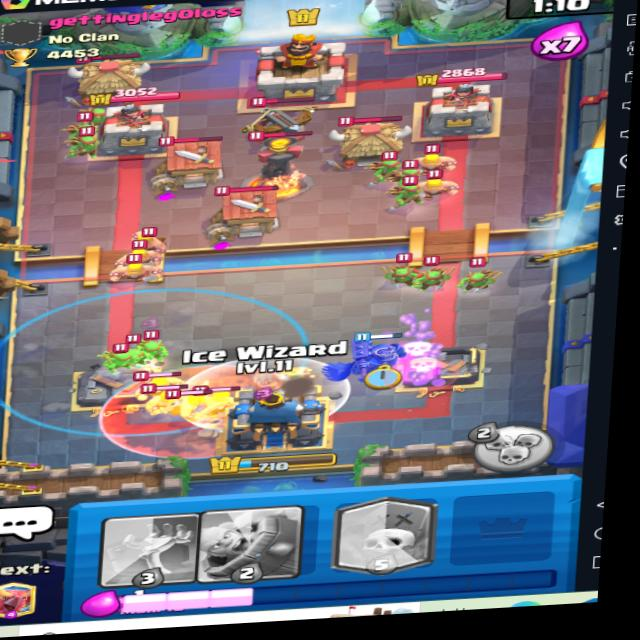barbarian: (144, 382, 191, 419), (112, 253, 160, 287), (404, 144, 455, 174), (125, 220, 175, 249), (411, 172, 457, 201), (199, 384, 239, 413), (120, 242, 165, 263)
barbarian-hut: (150, 129, 230, 188), (206, 181, 291, 236)
goblin-hut: (326, 111, 417, 174), (67, 47, 146, 103)
inferno-tower: (244, 125, 319, 199)
spear-goblin: (364, 151, 407, 182), (455, 257, 494, 290), (93, 344, 134, 374), (414, 255, 448, 289), (380, 254, 416, 286), (116, 340, 157, 366), (390, 182, 433, 205), (68, 110, 100, 137), (144, 331, 178, 356), (73, 129, 103, 155), (82, 100, 112, 126), (393, 161, 424, 185)
x-bow: (228, 86, 324, 151)
